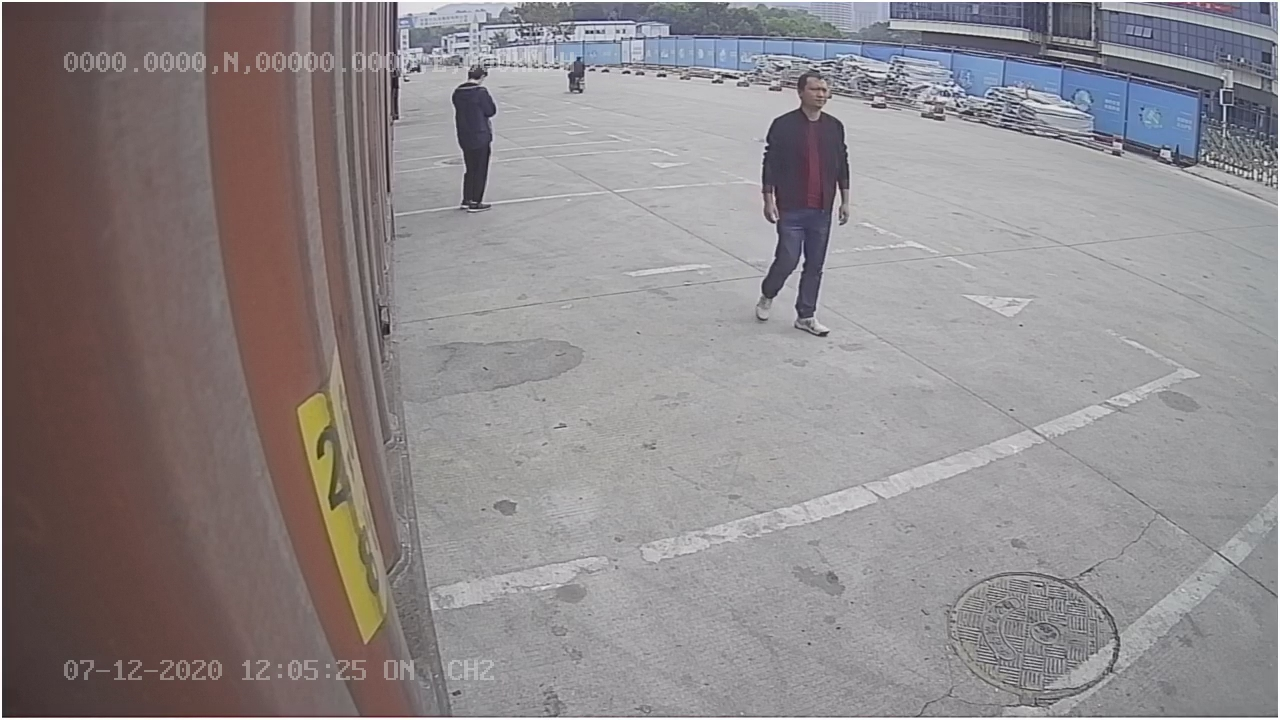person: (752, 72, 852, 336)
